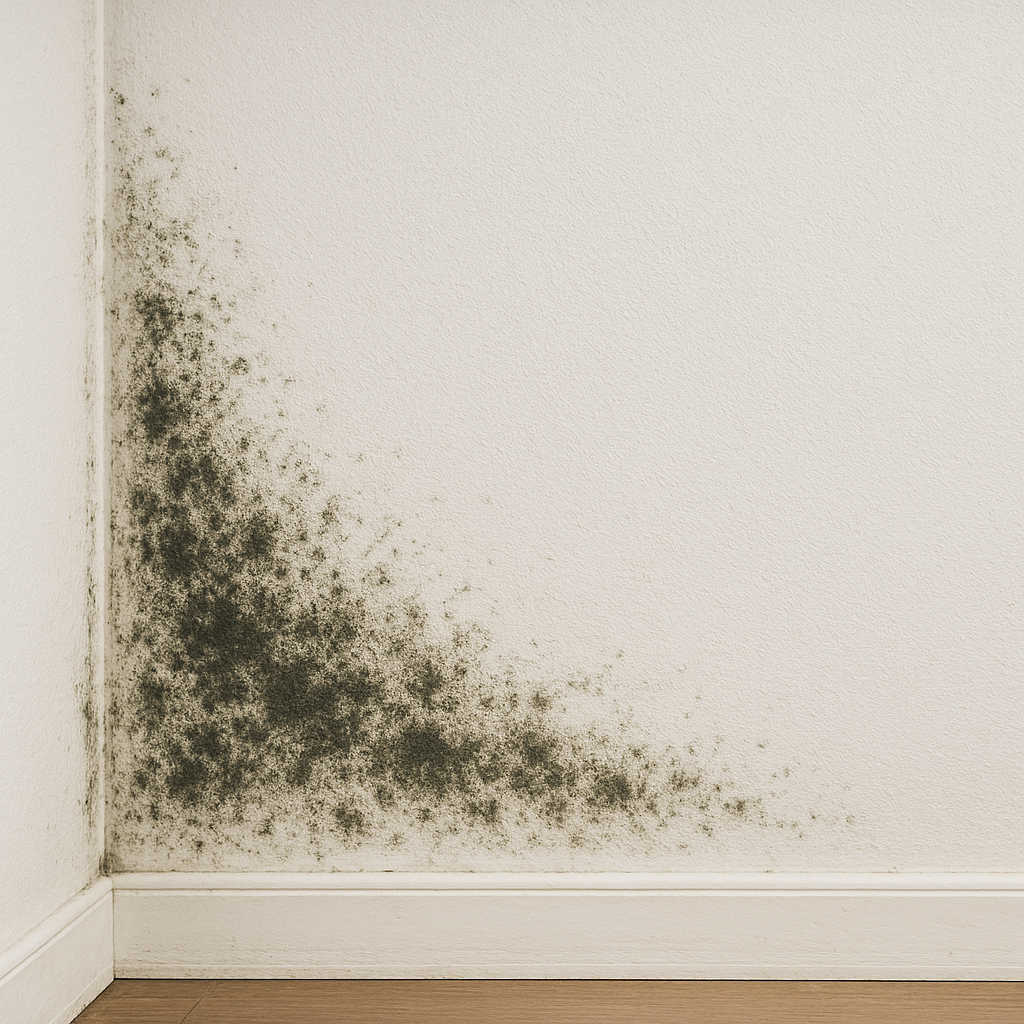schimmel: (129, 278, 245, 808), (256, 519, 351, 758), (361, 672, 482, 804), (517, 721, 579, 806), (602, 761, 659, 811)
